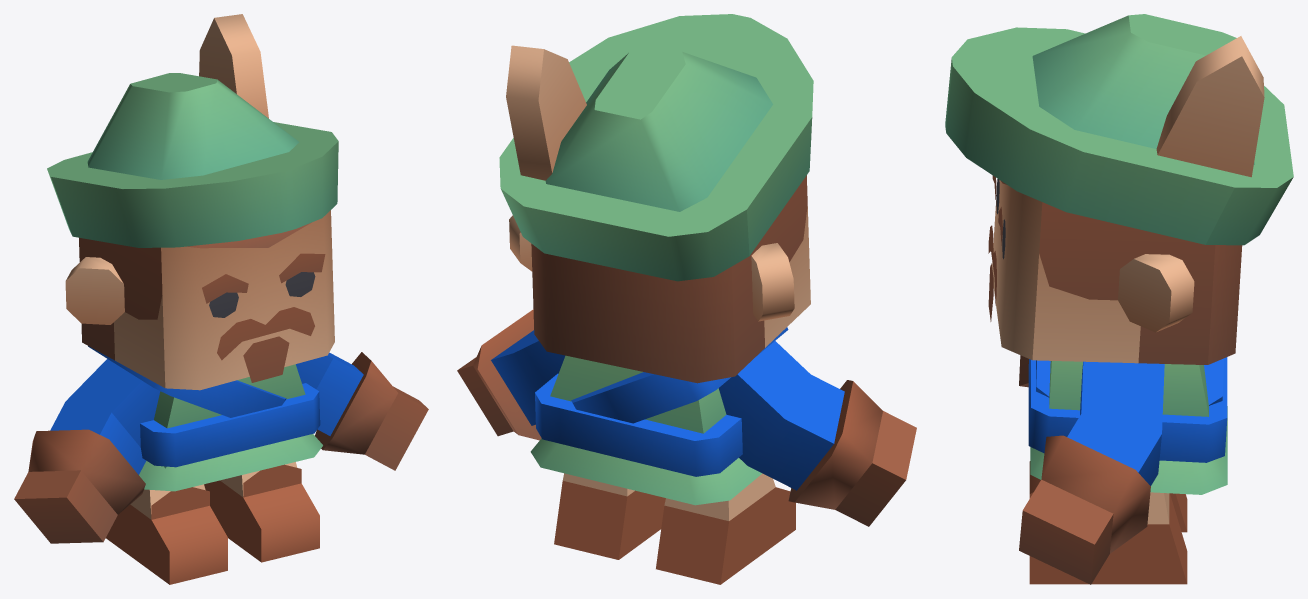
Rendered from toy-samurai-player-body.glb.
3 views of the same model, side by side, from view 1: azimuth 30°, elevation 25°; view 2: azimuth 150°, elevation 25°; view 3: azimuth 270°, elevation 25° (orthographic). The views are drawn at different scales.
Bounding box in the file's own units: 0.9076 × 1 × 0.5848.
1 material, 1 textured.
